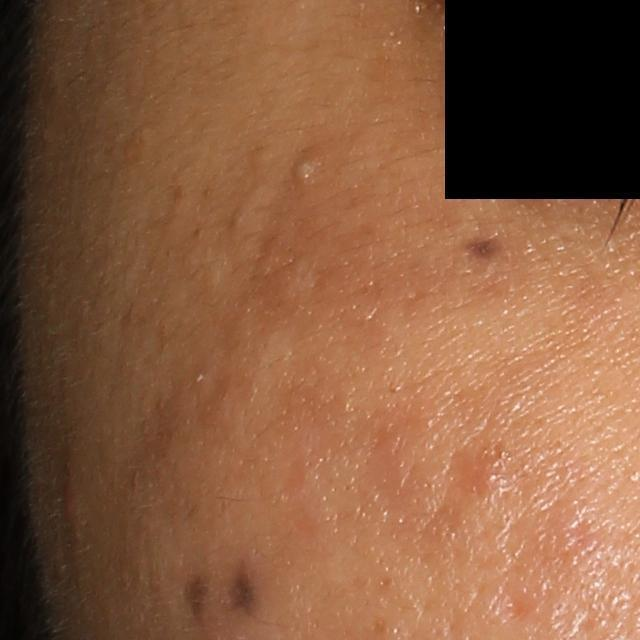atrophic_scar: (493, 568, 544, 625)
comedo: (290, 157, 318, 179)
nevus: (228, 555, 265, 626), (179, 569, 214, 635), (453, 230, 511, 266)
